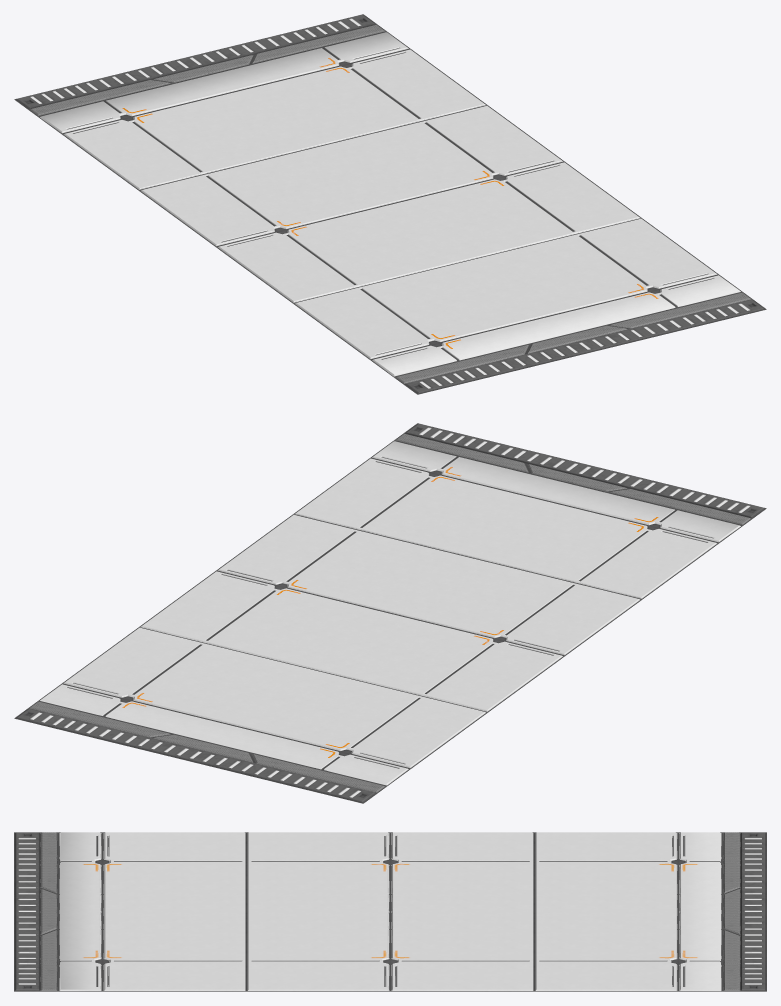
File: SM_MFloor02-700x350-1.FBX
3 renders of one model, top to bottom at view 1: azimuth 30°, elevation 25°; view 2: azimuth 150°, elevation 25°; view 3: azimuth 270°, elevation 25°, orthographic. The views are drawn at different scales.
Visible parts, largest first — view 1: SM_MFloor02-700x350-1; view 2: SM_MFloor02-700x350-1; view 3: SM_MFloor02-700x350-1.
Part boxes in pixels (left/top/right/bottom): SM_MFloor02-700x350-1: left=14, top=14, right=766, bottom=394; SM_MFloor02-700x350-1: left=14, top=423, right=766, bottom=803; SM_MFloor02-700x350-1: left=14, top=832, right=766, bottom=991.
Size of what is drawn, in the model's own units: 350 by 700 by 1.
